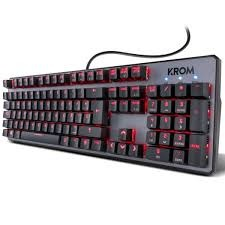keyboard: (3, 30, 223, 180)
